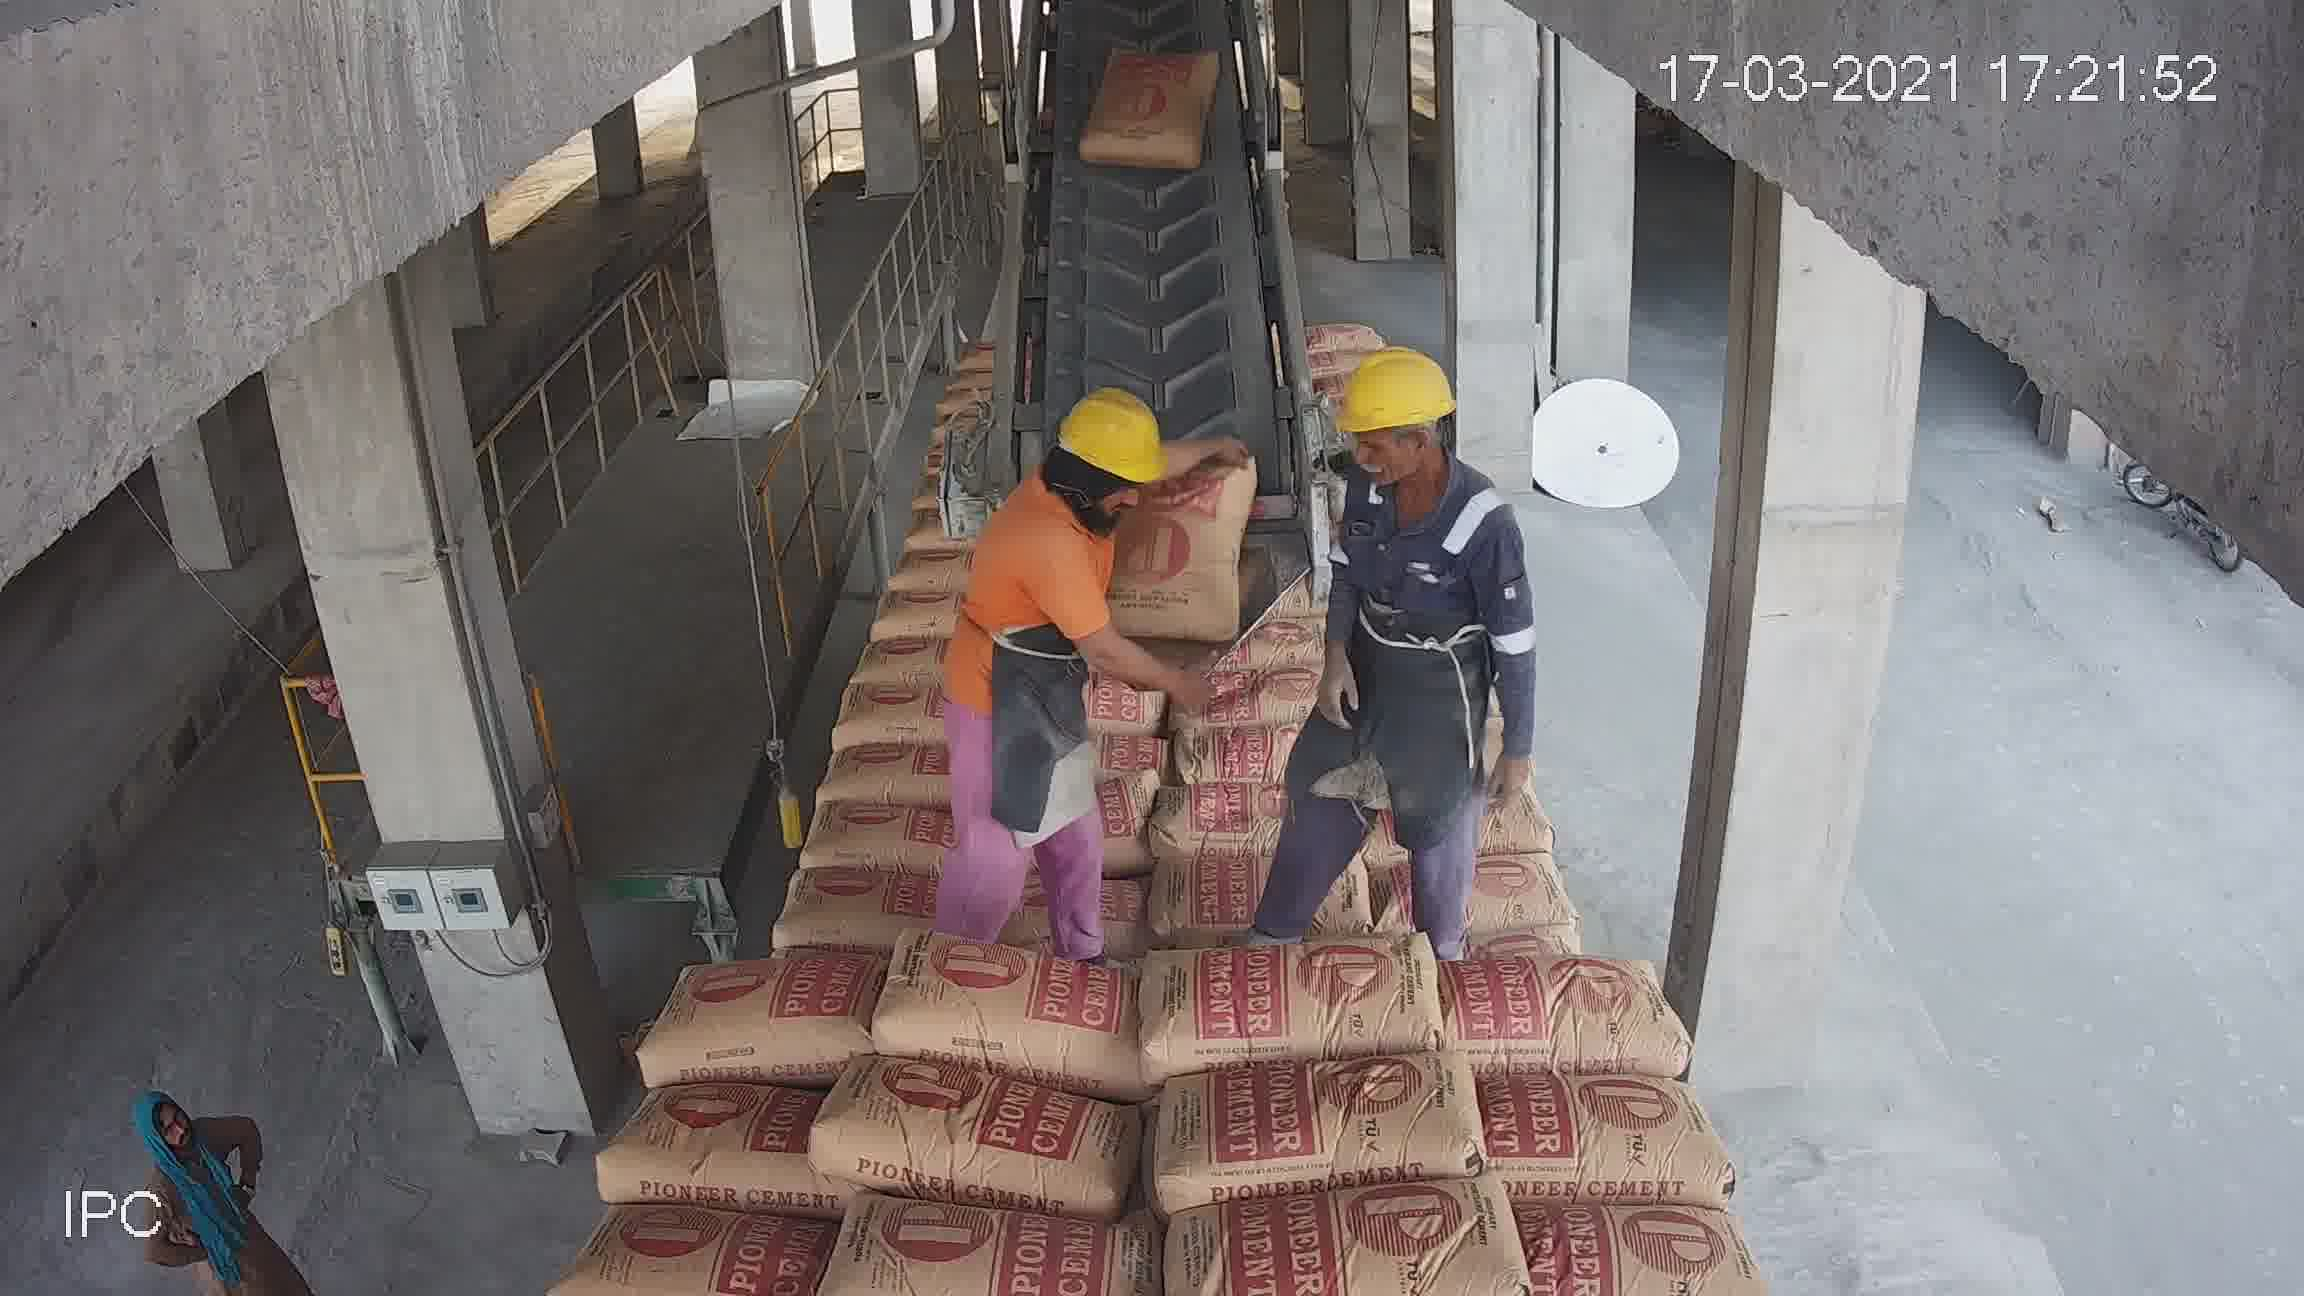bag_h: (1136, 1036, 1464, 1206), (1146, 929, 1461, 1073), (1176, 1174, 1556, 1293), (798, 1063, 1166, 1185), (1165, 817, 1445, 956), (855, 954, 1144, 1082), (627, 954, 867, 1100), (1128, 718, 1393, 850), (1431, 951, 1677, 1070), (883, 836, 1139, 949), (809, 1211, 1157, 1294), (1467, 1067, 1715, 1182), (1374, 756, 1581, 888), (540, 1204, 824, 1296), (685, 859, 896, 972), (1400, 858, 1636, 956), (1499, 1198, 1772, 1279), (891, 756, 1149, 839), (578, 1122, 804, 1207), (715, 783, 907, 862), (1147, 612, 1326, 679), (1033, 570, 1192, 635), (1021, 612, 1180, 673), (1188, 554, 1326, 623), (1173, 668, 1332, 726), (1161, 519, 1309, 581), (1006, 669, 1177, 718), (1033, 543, 1176, 585), (913, 465, 1017, 517), (930, 543, 1041, 589), (1022, 728, 1188, 758), (911, 513, 1046, 548)
belt: (1021, 17, 1294, 510)
